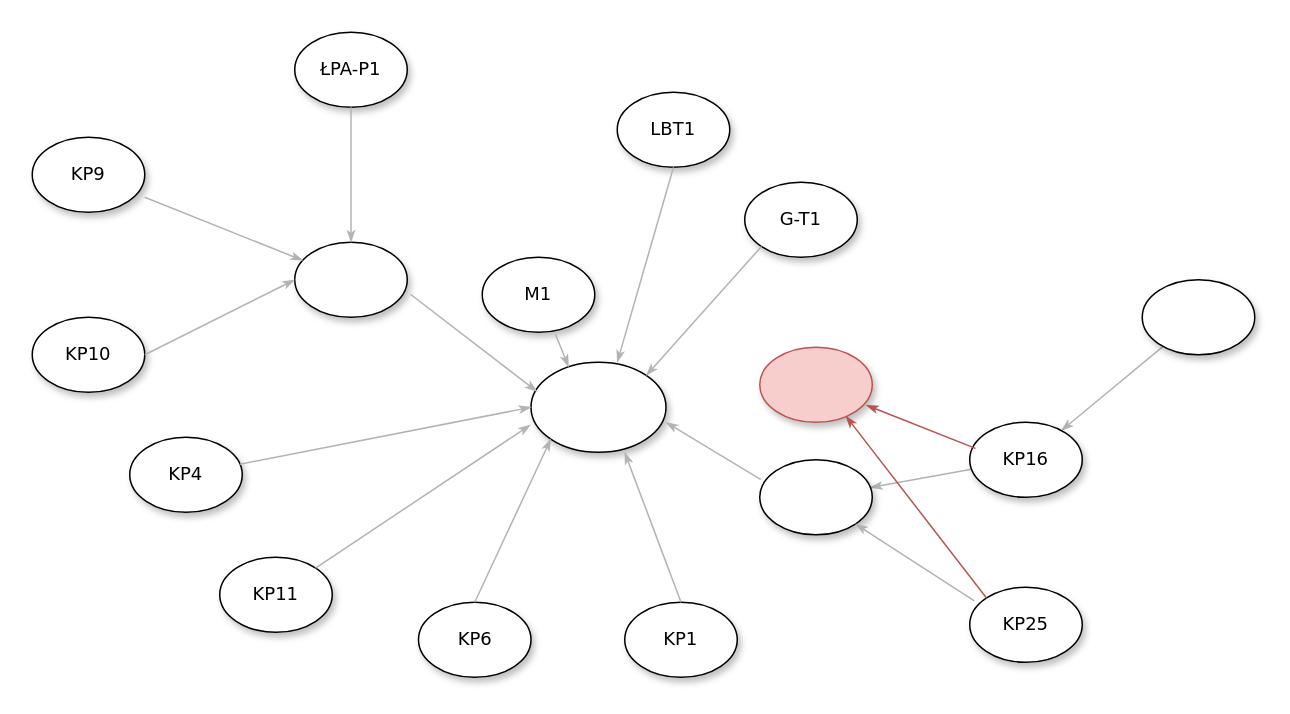
This 1290x714 diagram has some shape labels left out. Each missing label, with the centre of its shape:
KP2: (x=816, y=498)
KP26: (x=816, y=386)
KP7: (x=1199, y=318)
KP8: (x=351, y=281)
Oczyszczalnia: (x=599, y=409)
